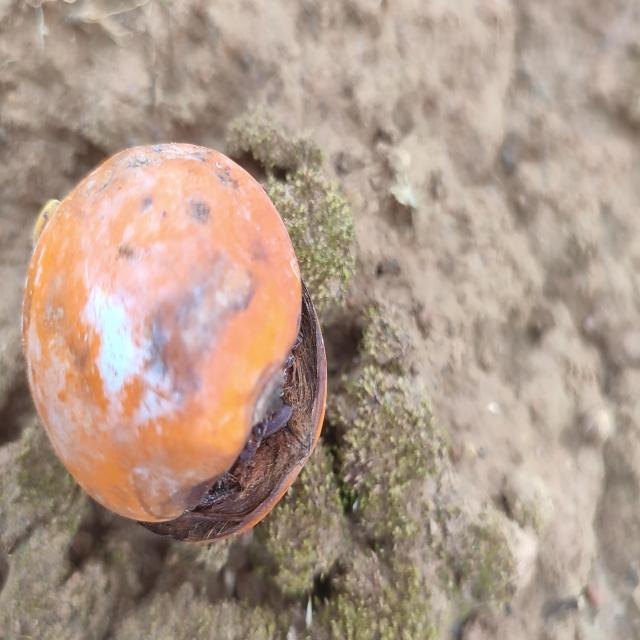damaged: (20, 143, 310, 543)
